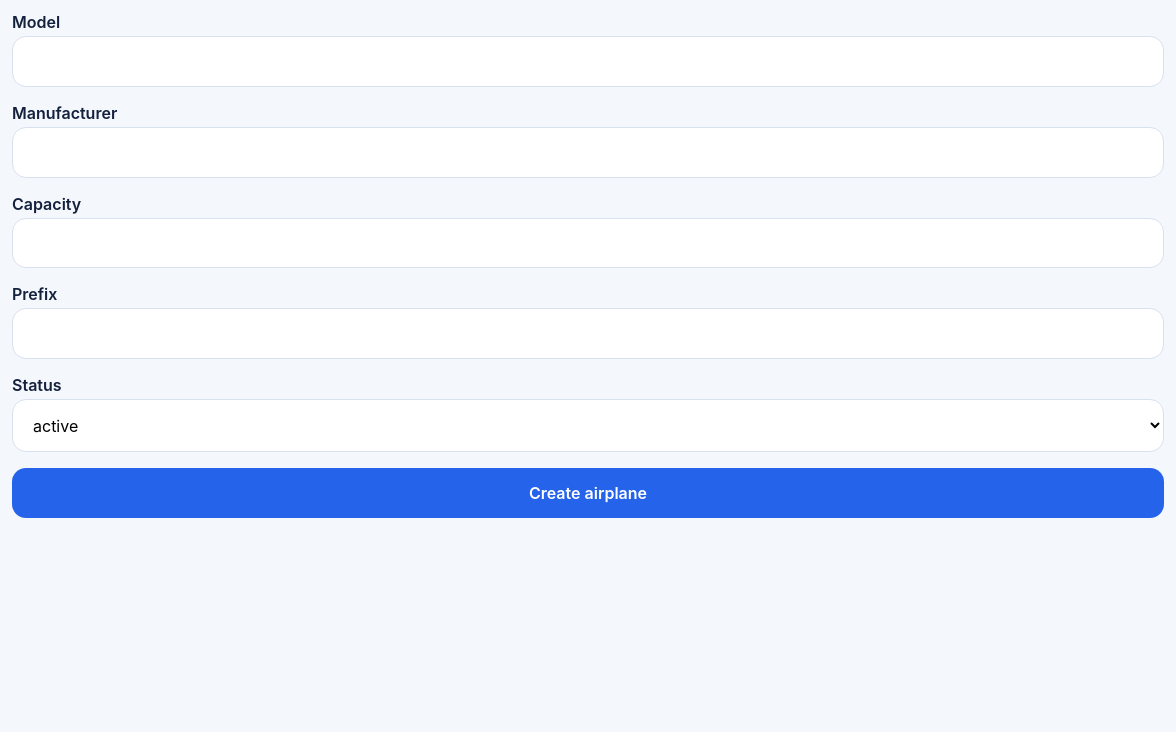
Test: AirplaneForm › validates required fields before submit
Click the button "Create airplane": [588, 493] box 12,468 -> 1164,518
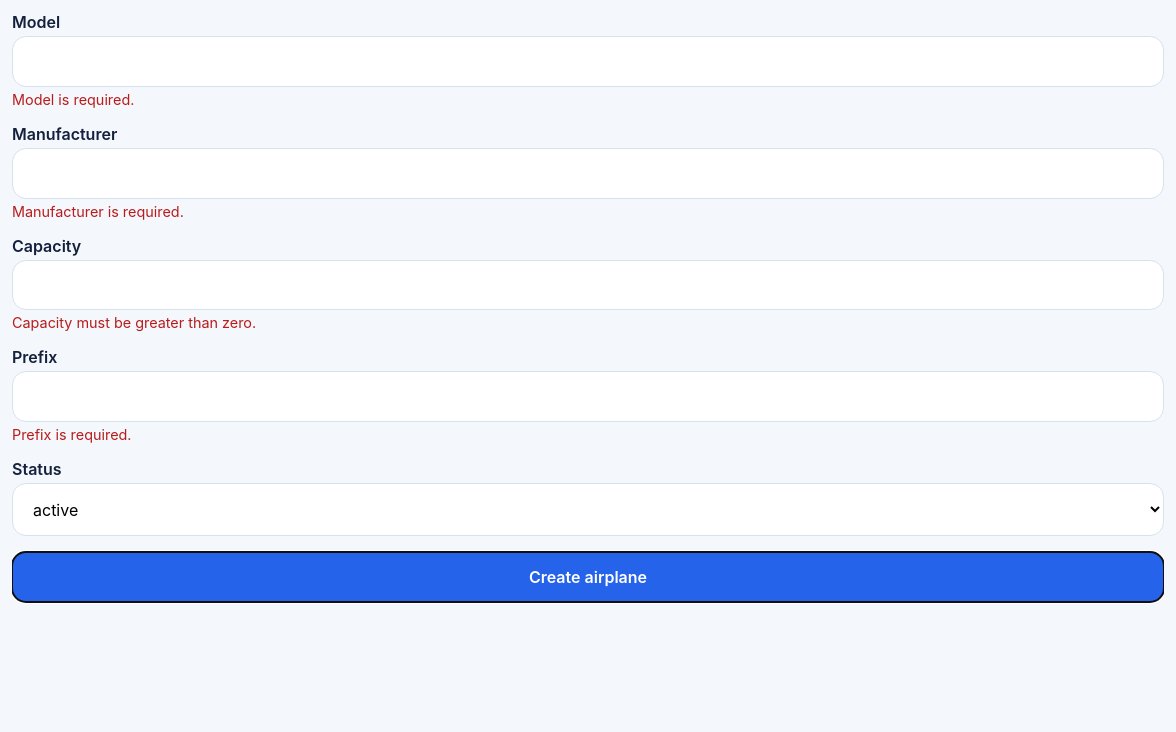
Check: the text "Model is required." is shown, box 12,91 -> 134,108
Check: the text "Manufacturer is required." is shown, box 12,203 -> 184,220
Check: the text "Capacity must be greater than zero." is shown, box 12,314 -> 256,331
